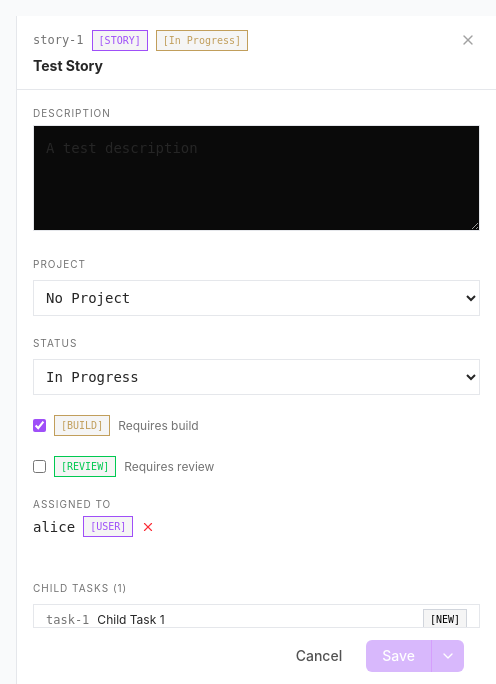
StoryDetail › editing and mutations › shows filtered assignee options when typing search term
// Clear the current assignee first (assigned_to is 'user-1', shown as 'alice')
Click the button without text next to "USER" at (148, 526), box [141, 520, 155, 534]
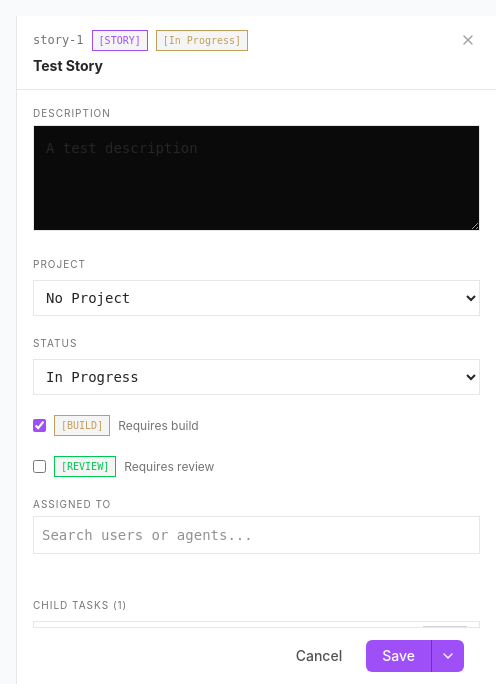
// Now we should see the search input
Type "bob" into the field with placeholder "Search users or agents..." at (256, 535), box [33, 516, 480, 554]
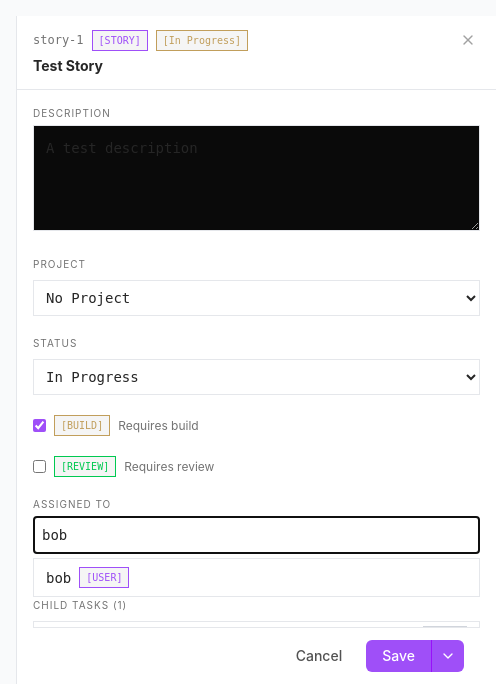
Expected: the text "alice" is not shown
Expected: the text "bob" is shown, [46, 568, 71, 588]
